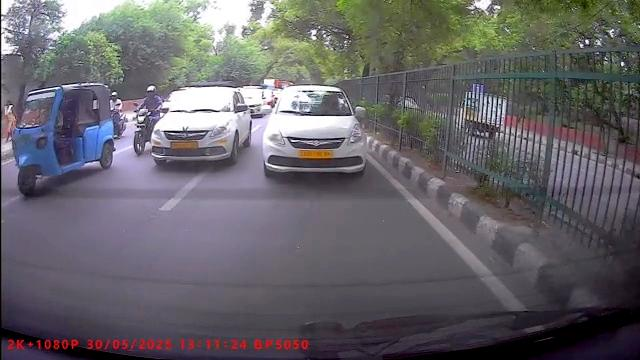motorcycle_with_helmet: (132, 84, 164, 153)
